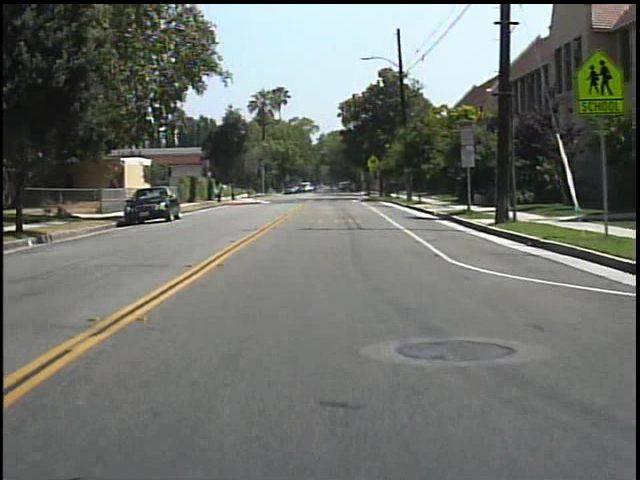car: (122, 185, 190, 221)
strada: (1, 235, 617, 480)
